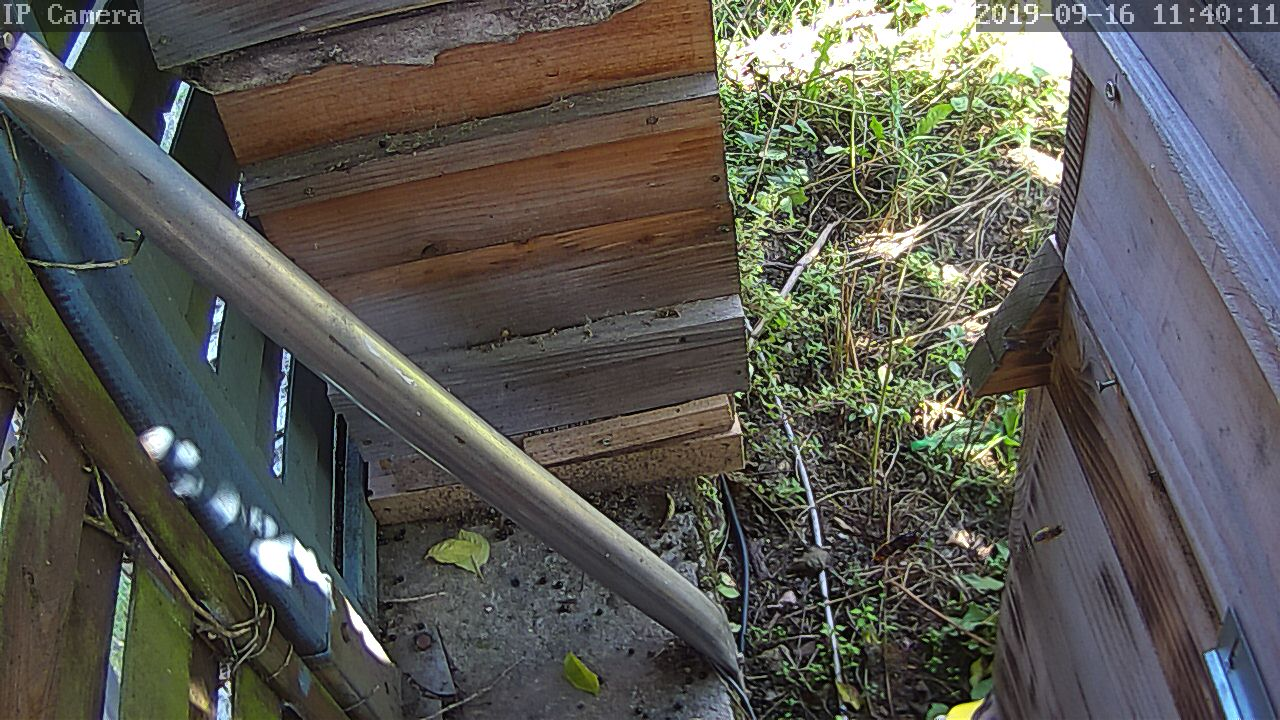bee: (1028, 515, 1069, 545)
hornet: (869, 526, 925, 566)
